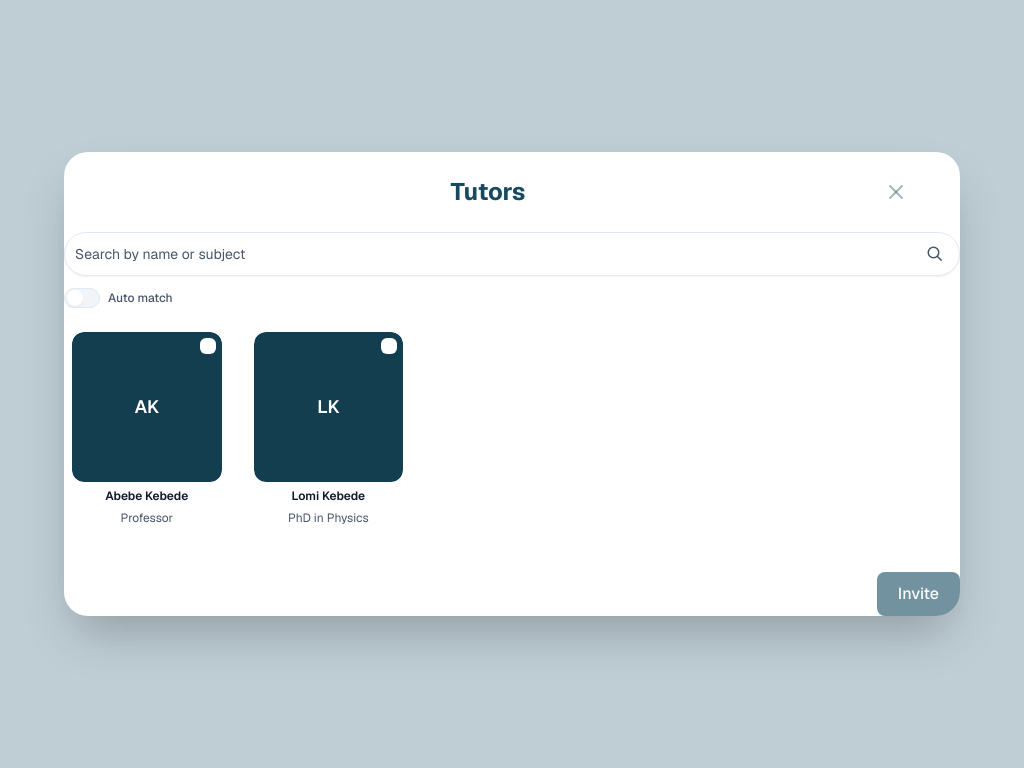
it: TutorSelectionModal › shows an empty state when nothing matches
The width and height of the screenshot is (1024, 768).
In the search field named "Search tutors": point(494, 254) 75,238 -> 913,270, type "zzzz"
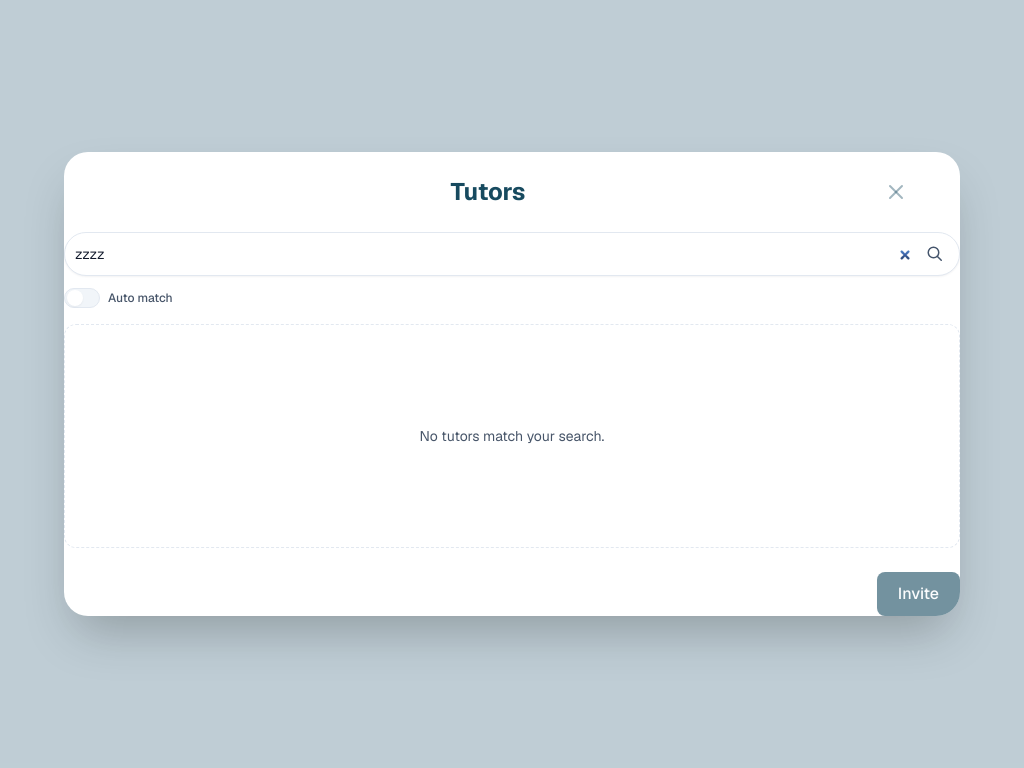
Now the text "No tutors match your search." is shown, box 64,324 -> 960,548
